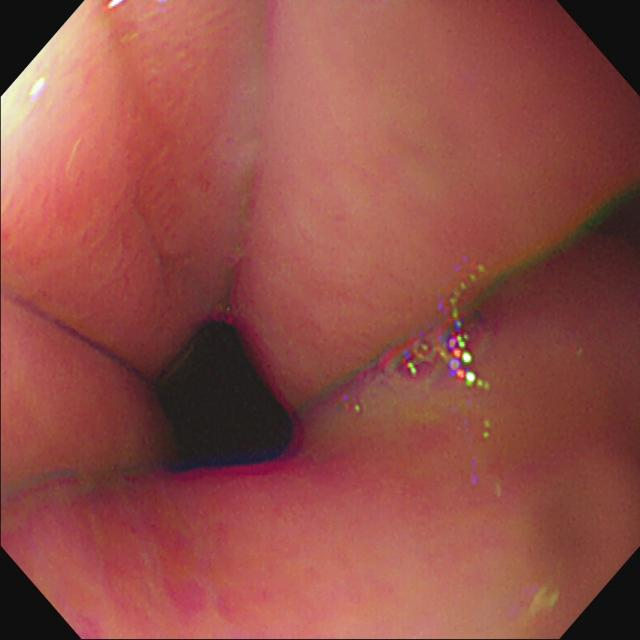A: (58, 60, 205, 278)
E: (156, 318, 299, 464)
U: (440, 259, 491, 389)
